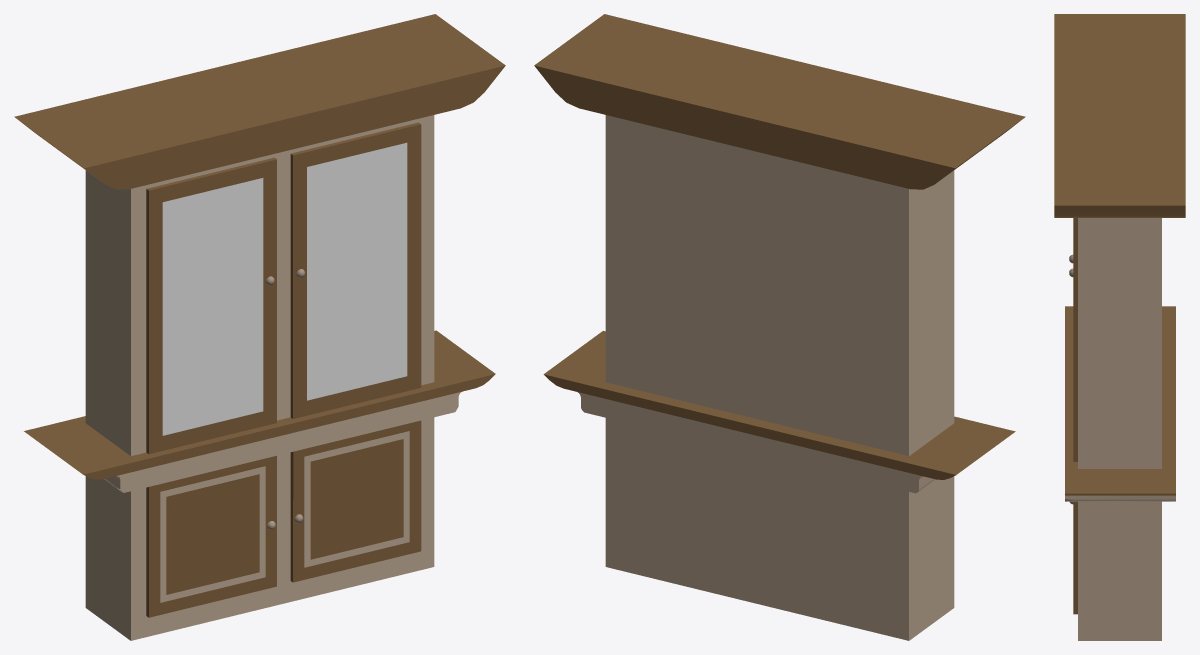
Rendered from cristalliera 1.fbx.
The picture shows the model from 3 angles, left to right: view 1: azimuth 30°, elevation 25°; view 2: azimuth 150°, elevation 25°; view 3: azimuth 270°, elevation 25°; orthographic projection. The views are drawn at different scales.
Parts seen in each view (by area): view 1: CristallieraCombined; view 2: CristallieraCombined; view 3: CristallieraCombined.
Boxes of the visible parts, x1,y1,x2,y2 form: CristallieraCombined: [14, 14, 505, 640]; CristallieraCombined: [534, 14, 1025, 640]; CristallieraCombined: [1054, 14, 1185, 640].
Bounding box in the file's own units: 5.39 × 6.06 × 1.56.
